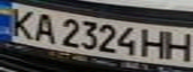2: (54, 16, 81, 48), (97, 21, 118, 54)
3: (78, 18, 100, 52)
4: (115, 24, 142, 56)
A: (27, 11, 60, 44)
H: (139, 27, 172, 60), (163, 29, 193, 63)
K: (0, 5, 39, 39)
